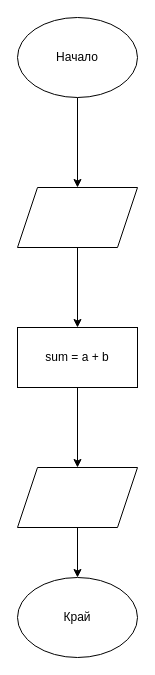
This 155x675 diagram has some shape labels left out. Each missing label, with the centre of its shape:
Вход: а, b: pixel 77 217
Изход: sum: pixel 77 497
